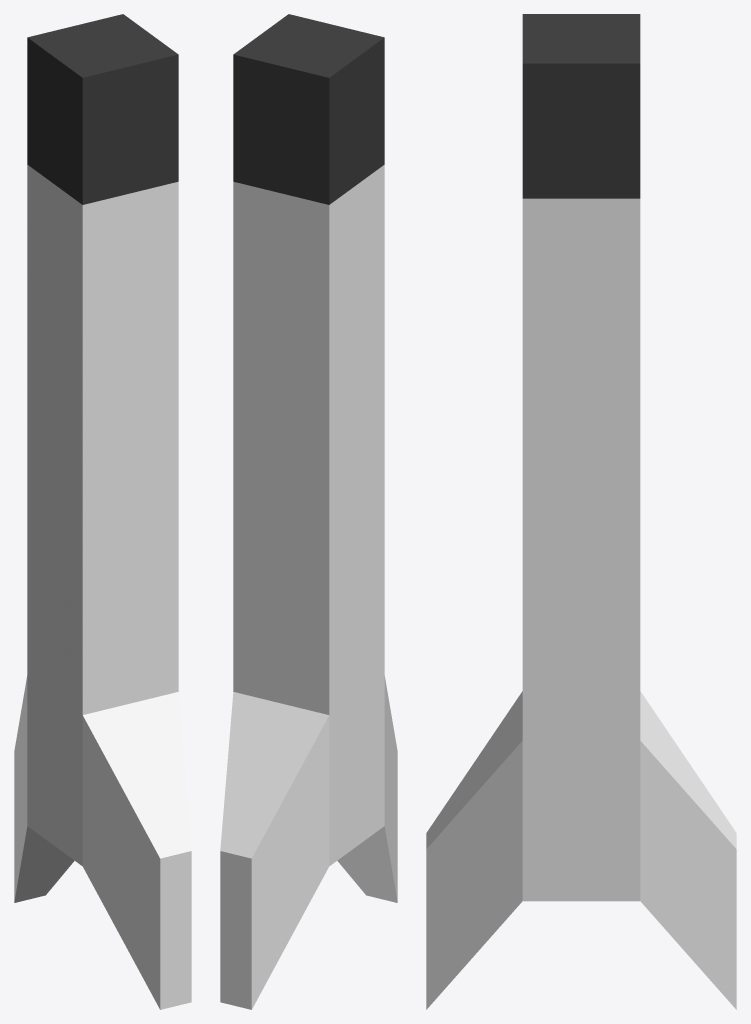
The model's file is Arrow01.obj.
3 renders of one model, left to right at view 1: azimuth 30°, elevation 25°; view 2: azimuth 150°, elevation 25°; view 3: azimuth 270°, elevation 25°, orthographic. The views are drawn at different scales.
Visible parts, largest first — view 1: Arrow01; view 2: Arrow01; view 3: Arrow01.
Part boxes in pixels (x1,y1,x2,y2): Arrow01: (14, 14, 191, 1009); Arrow01: (220, 14, 397, 1009); Arrow01: (426, 14, 736, 1009).
Size of the model in its own units: 0.2159 by 1.95 by 0.5692.
Materials: 1 (1 with a texture image).
